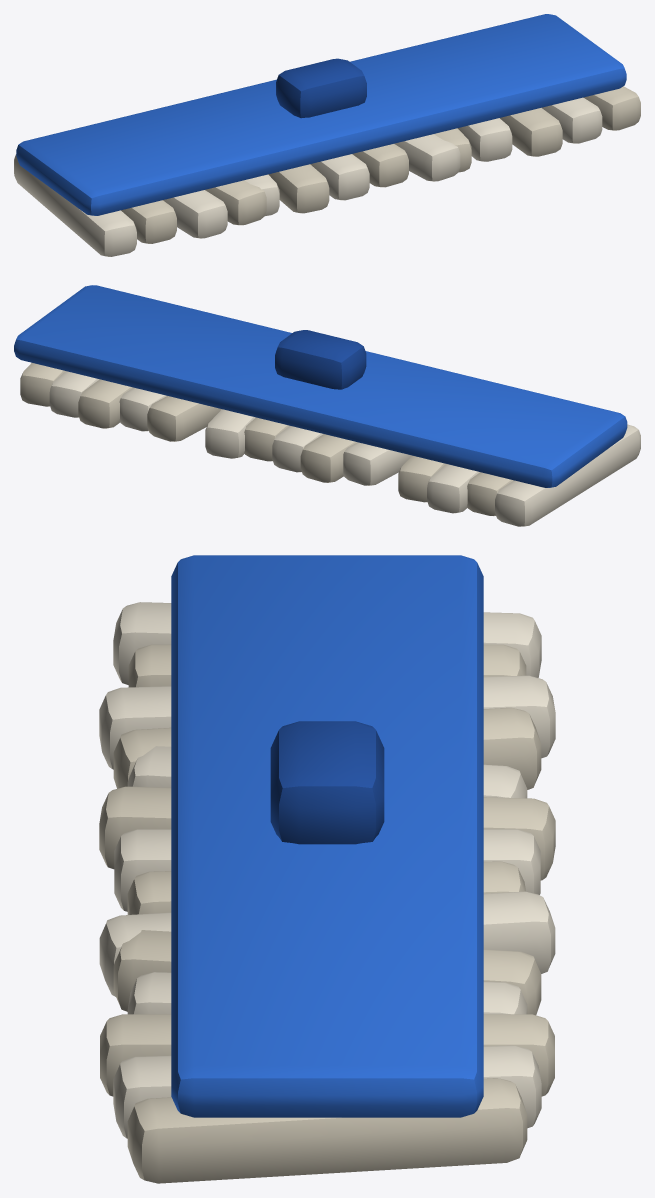
File: mop_head.fbx
3 renders of one model, top to bottom at view 1: azimuth 30°, elevation 25°; view 2: azimuth 150°, elevation 25°; view 3: azimuth 270°, elevation 25°, orthographic. The views are drawn at different scales.
Visible parts, largest first — view 1: mop_head; view 2: mop_head; view 3: mop_head.
Part boxes in pixels (box(x1,y1,x2,y2)): mop_head: box(14, 14, 640, 256); mop_head: box(14, 285, 640, 526); mop_head: box(99, 555, 555, 1183).
Size of the model in its own units: 0.4435 by 0.069 by 0.1606.
